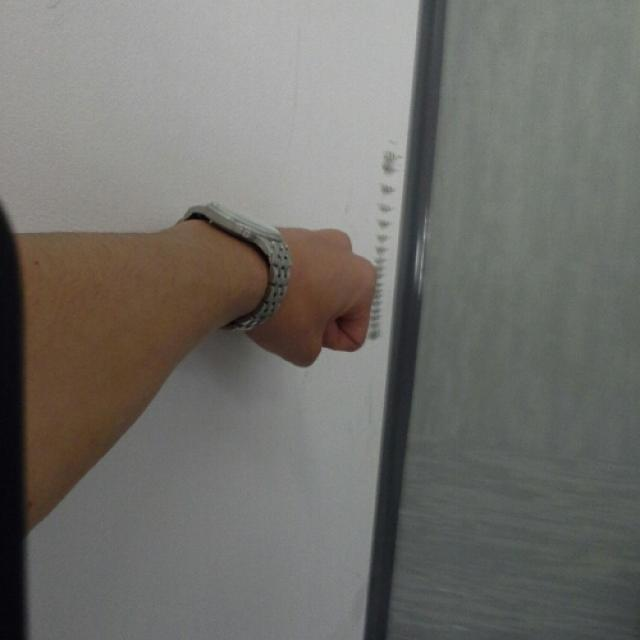rock: (280, 226, 378, 368)
